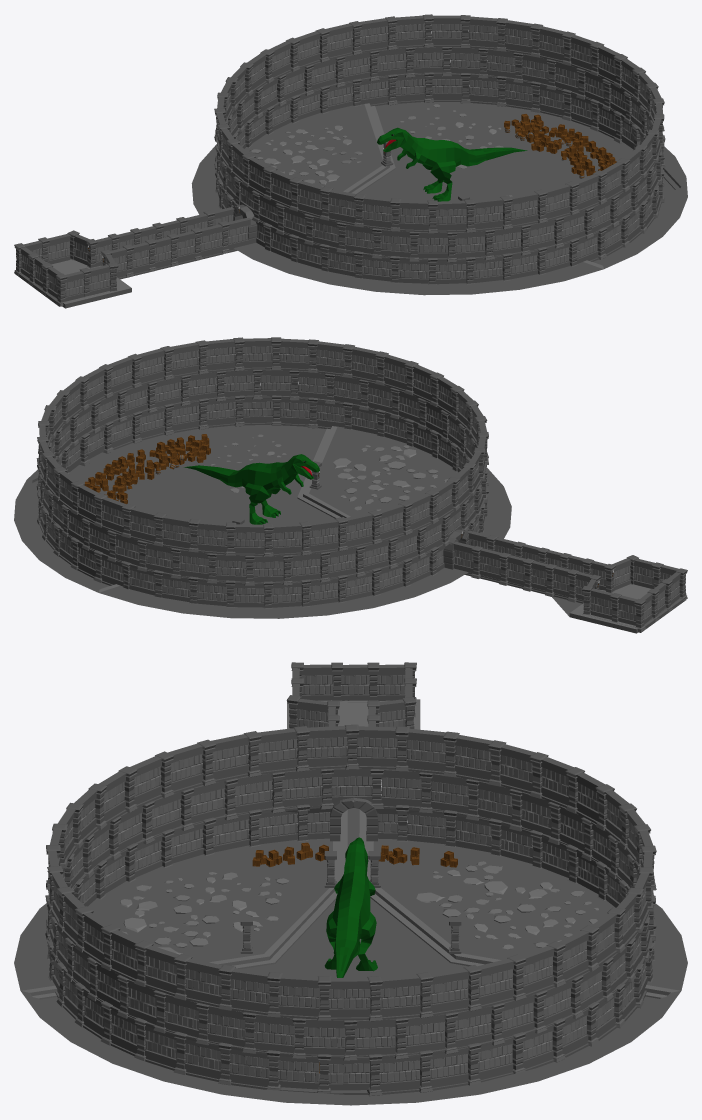
The model's file is duengeon 2.fbx.
3 renders of one model, top to bottom at view 1: azimuth 30°, elevation 25°; view 2: azimuth 150°, elevation 25°; view 3: azimuth 270°, elevation 25°, orthographic. The views are drawn at different scales.
Parts seen in each view (by area): view 1: arena duvar, zemin arena, dış duvarlar, Dinazor, kapı; view 2: arena duvar, zemin arena, dış duvarlar, Dinazor, kapı; view 3: arena duvar, zemin arena, dış duvarlar, Dinazor, kapı.
Part boxes in pixels (box(x1,y1,x2,y2)): arena duvar: box(214, 14, 665, 284); zemin arena: box(14, 86, 687, 308); dış duvarlar: box(14, 206, 251, 306); Dinazor: box(377, 127, 527, 201); kapı: box(232, 204, 257, 243); arena duvar: box(36, 337, 488, 608); zemin arena: box(14, 409, 686, 633); dış duvarlar: box(451, 530, 687, 631); Dinazor: box(184, 454, 319, 524); kapı: box(443, 529, 469, 569); arena duvar: box(45, 724, 656, 1096); zemin arena: box(14, 698, 687, 1105); dış duvarlar: box(286, 662, 416, 728); Dinazor: box(324, 837, 377, 977); kapı: box(330, 797, 377, 841).
Bounding box in the file's own units: 18530 × 2524 × 12932.
